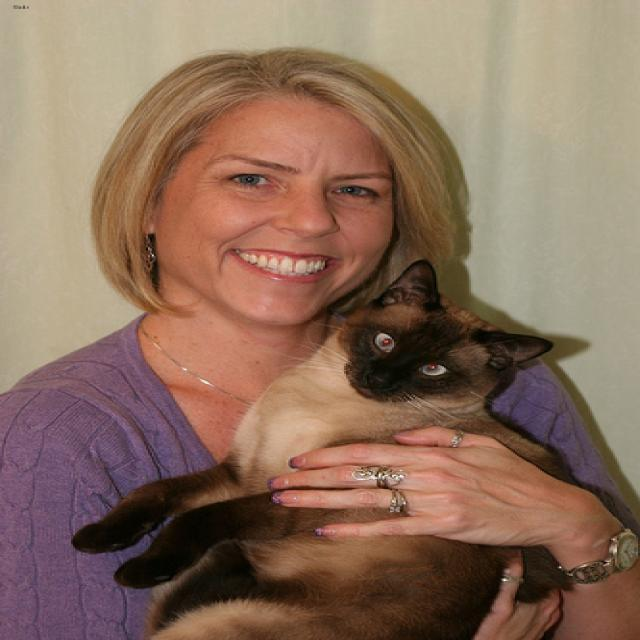Siamese: (329, 258, 568, 418)
